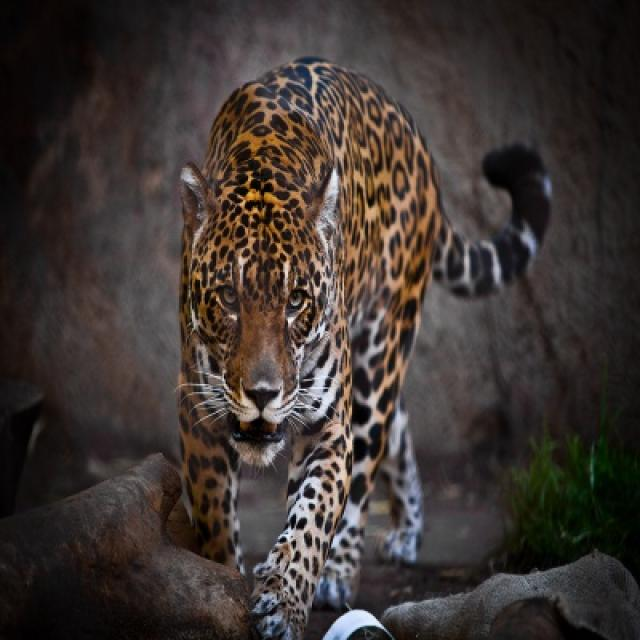Jaguar: (163, 58, 554, 638)
